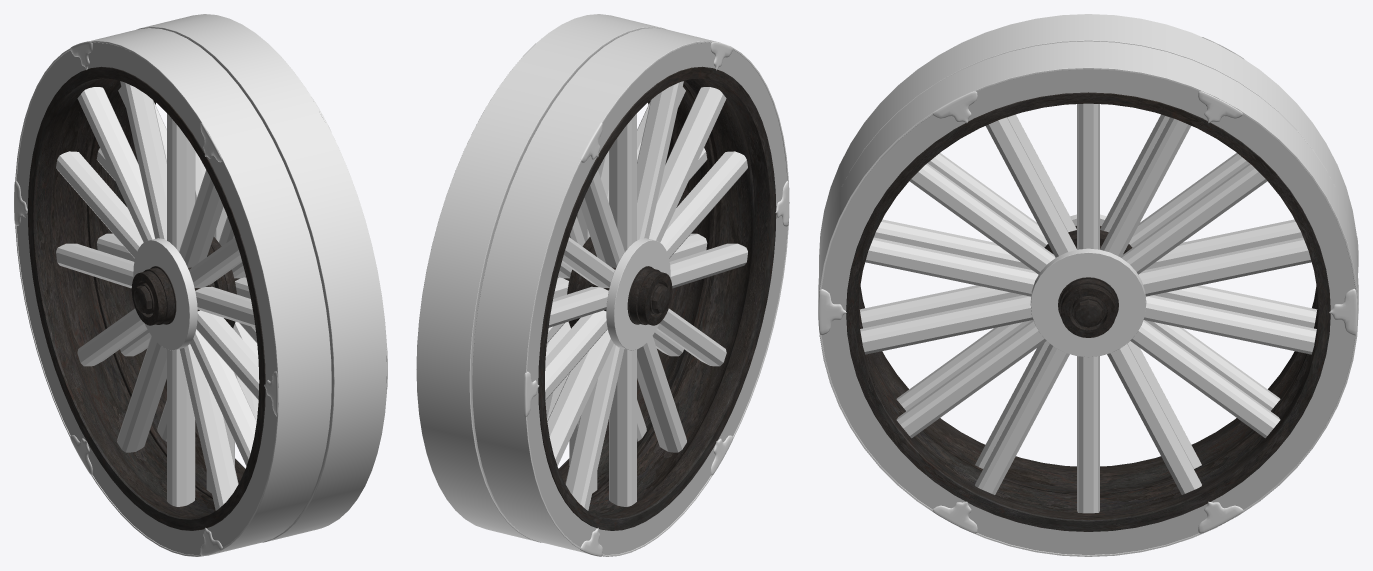
The model's file is LogariusWheel.fbx.
3 renders of one model, left to right at view 1: azimuth 30°, elevation 25°; view 2: azimuth 150°, elevation 25°; view 3: azimuth 270°, elevation 25°, orthographic. The views are drawn at different scales.
Parts seen in each view (by area): view 1: spokes, felloes tyre, felloes tyre.001, felloes interior, felloes, felloes interior.001, spokes.001, hub flange front, felloes plates, hub bearing, felloes.001; view 2: spokes, felloes tyre, felloes tyre.001, felloes interior, felloes, felloes interior.001, spokes.001, hub flange front, felloes plates, hub bearing, felloes.001; view 3: spokes.001, felloes.001, felloes interior.001, spokes, felloes tyre.001, felloes tyre, felloes interior, hub flange front.001, felloes plates.001, hub bearing.001.
Part boxes in pixels (x1,y1,x2,y2): spokes: [56, 81, 259, 510]; felloes tyre: [15, 28, 331, 556]; felloes tyre.001: [137, 14, 386, 542]; felloes interior: [27, 66, 265, 530]; felloes: [16, 42, 276, 554]; felloes interior.001: [87, 82, 245, 498]; spokes.001: [96, 87, 258, 493]; hub flange front: [133, 238, 197, 350]; felloes plates: [14, 41, 278, 555]; hub bearing: [131, 266, 176, 325]; felloes.001: [175, 33, 333, 526]; spokes: [545, 81, 747, 510]; felloes tyre: [472, 28, 788, 556]; felloes tyre.001: [416, 14, 666, 542]; felloes interior: [538, 66, 776, 530]; felloes: [527, 42, 787, 554]; felloes interior.001: [558, 82, 716, 498]; spokes.001: [545, 87, 707, 493]; hub flange front: [606, 238, 670, 350]; felloes plates: [524, 41, 789, 556]; hub bearing: [627, 266, 672, 325]; felloes.001: [470, 33, 628, 525]; spokes.001: [860, 103, 1316, 513]; felloes.001: [821, 69, 1355, 554]; felloes interior.001: [846, 92, 1330, 531]; spokes: [859, 114, 1317, 468]; felloes tyre.001: [818, 41, 1358, 556]; felloes tyre: [819, 14, 1357, 271]; felloes interior: [859, 285, 1317, 494]; hub flange front.001: [1030, 248, 1146, 357]; felloes plates.001: [818, 91, 1357, 533]; hub bearing.001: [1058, 277, 1118, 337].
Bounding box in the file's own units: 37.68 × 140 × 140.
